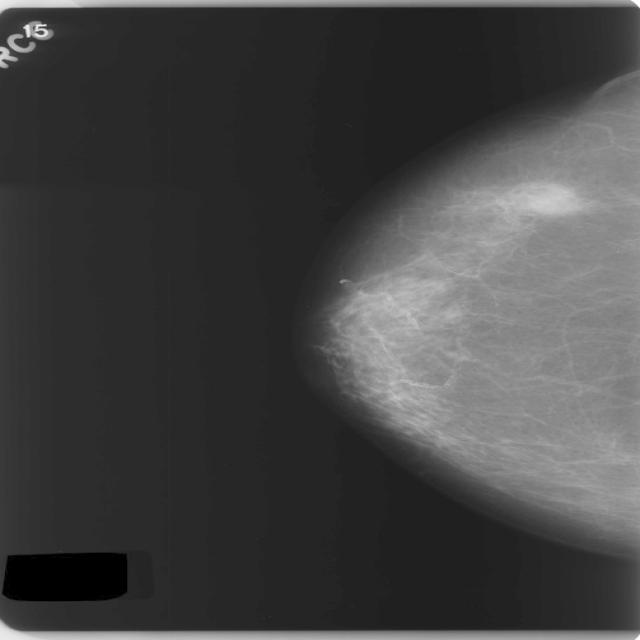tumour: (504, 182, 579, 214)
